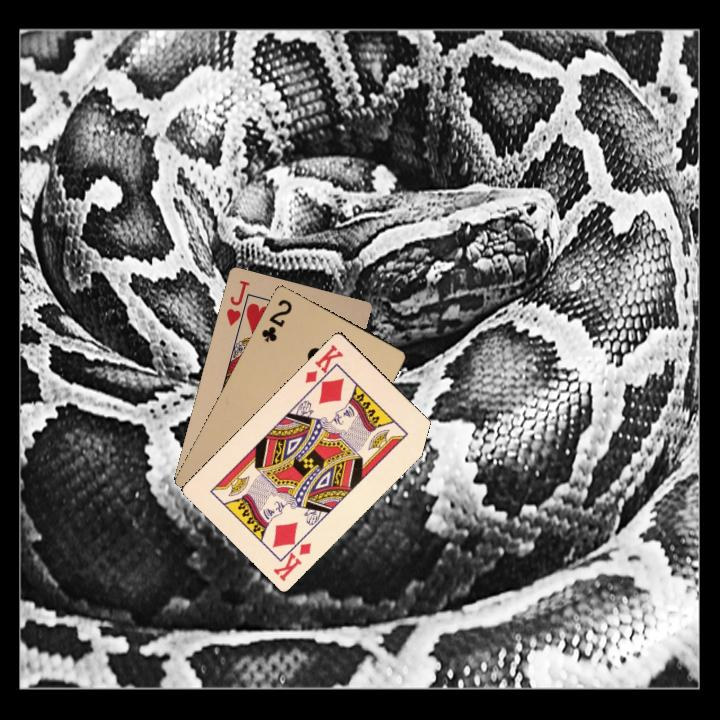2c: (257, 295, 295, 345)
Jh: (222, 276, 253, 331)
Kd: (269, 529, 314, 584), (301, 340, 346, 391)
